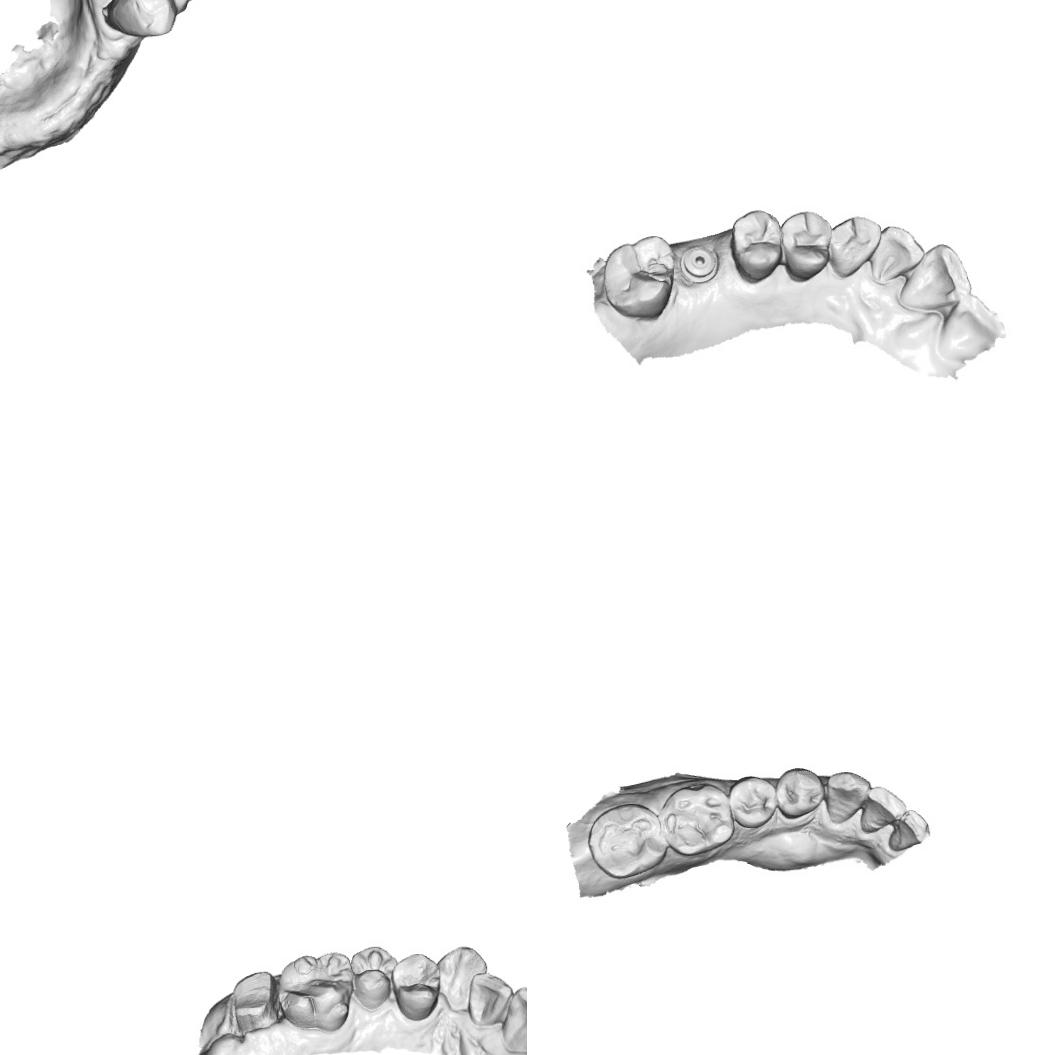canine: (436, 940, 489, 1016), (828, 213, 882, 278), (104, 0, 177, 39), (822, 770, 870, 827)
crown: (224, 966, 284, 1032)
implant: (682, 242, 720, 282)
incisor: (896, 242, 971, 311), (938, 292, 1004, 362), (866, 224, 924, 284), (464, 971, 510, 1028), (858, 786, 909, 834), (886, 807, 931, 854), (497, 985, 527, 1054)
molar: (598, 232, 680, 322), (274, 951, 356, 1035), (586, 802, 664, 882), (663, 780, 734, 858)
premolar: (779, 209, 836, 282), (730, 209, 786, 280), (391, 949, 442, 1023), (350, 943, 398, 1014), (727, 772, 780, 830), (776, 765, 822, 822)
